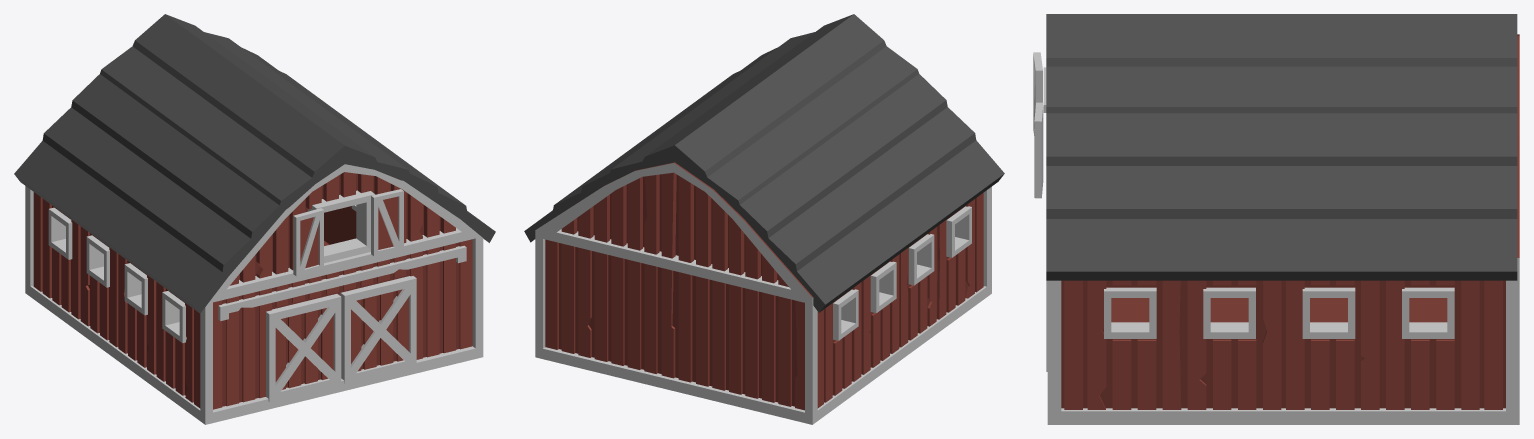
The model's file is Barn.glb.
3 renders of one model, left to right at view 1: azimuth 30°, elevation 25°; view 2: azimuth 150°, elevation 25°; view 3: azimuth 270°, elevation 25°, orthographic. The views are drawn at different scales.
Visible parts, largest first — view 1: Barn, Barn_Door, Barn_Door2, Barn_Window, Barn_Window2; view 2: Barn; view 3: Barn, Barn_Window, Barn_Window2.
Part boxes in pixels (x1,y1,x2,y2): Barn: [14, 14, 495, 424]; Barn_Door: [340, 276, 416, 383]; Barn_Door2: [266, 294, 341, 401]; Barn_Window: [371, 189, 403, 256]; Barn_Window2: [293, 208, 323, 276]; Barn: [524, 14, 1004, 424]; Barn: [1043, 14, 1519, 424]; Barn_Window: [1034, 102, 1043, 198]; Barn_Window2: [1033, 52, 1042, 135].
Size of the model in its own units: 773 by 601 by 822.
